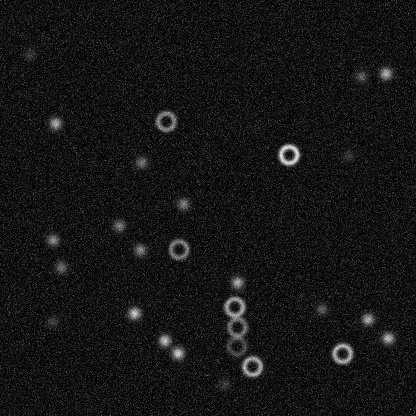Ring: (224, 333, 248, 357), (276, 142, 300, 166), (330, 341, 354, 365), (222, 294, 246, 318), (240, 354, 264, 378), (166, 237, 190, 261), (225, 315, 249, 339), (153, 109, 177, 133)
Spot: (133, 154, 149, 170), (47, 115, 63, 131), (379, 330, 395, 346), (216, 375, 232, 391), (169, 345, 185, 361), (131, 241, 147, 257), (313, 300, 329, 316), (359, 311, 375, 327), (156, 332, 172, 348), (44, 231, 60, 247), (339, 147, 355, 163), (21, 46, 37, 62), (110, 217, 126, 233), (175, 195, 191, 211), (44, 313, 60, 329), (353, 68, 369, 84), (126, 305, 142, 321), (229, 274, 245, 290), (52, 259, 68, 275), (377, 65, 393, 81)
